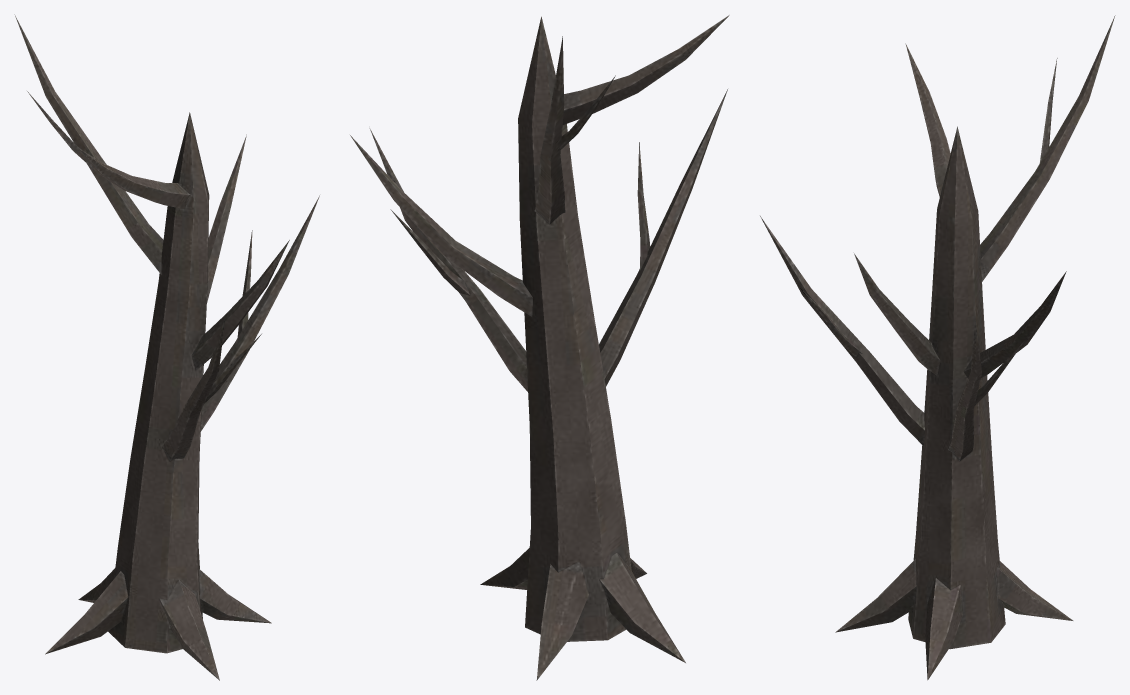
The model's file is arvore_seca.glb.
3 views of the same model, side by side, from view 1: azimuth 30°, elevation 25°; view 2: azimuth 150°, elevation 25°; view 3: azimuth 270°, elevation 25° (orthographic). The views are drawn at different scales.
Visible parts, largest first — view 1: arvore_seca; view 2: arvore_seca; view 3: arvore_seca.
Boxes of the visible parts, box(x1,y1,x2,y2) form: arvore_seca: box(14, 14, 319, 680); arvore_seca: box(350, 15, 729, 680); arvore_seca: box(760, 15, 1115, 680).
Size of the model in its own units: 1.92 by 3.85 by 2.13.
Materials: 1 (1 with a texture image).
